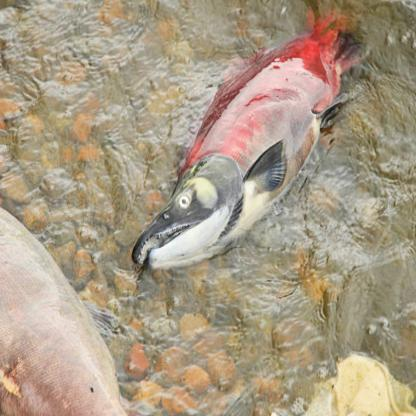sockeye: (137, 16, 367, 270)
